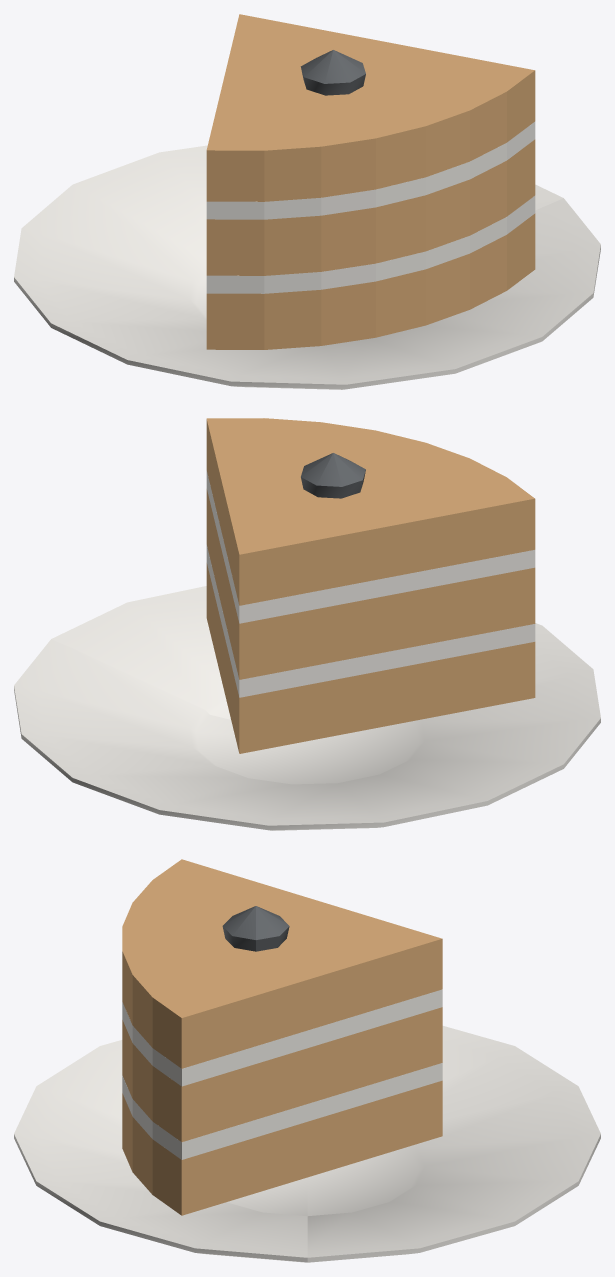
The model's file is bakery-and-cafe-cake-slice-c96344d0.glb.
3 views of the same model, one above another, from view 1: azimuth 30°, elevation 25°; view 2: azimuth 150°, elevation 25°; view 3: azimuth 270°, elevation 25° (orthographic).
Parts seen in each view (by area): view 1: cake-slice; view 2: cake-slice; view 3: cake-slice.
Part boxes in pixels (<box>): cake-slice: <box>14,14,600,389</box>; cake-slice: <box>14,418,600,830</box>; cake-slice: <box>14,859,600,1262</box>.
Bounding box in the file's own units: 0.21 × 0.108 × 0.21.
